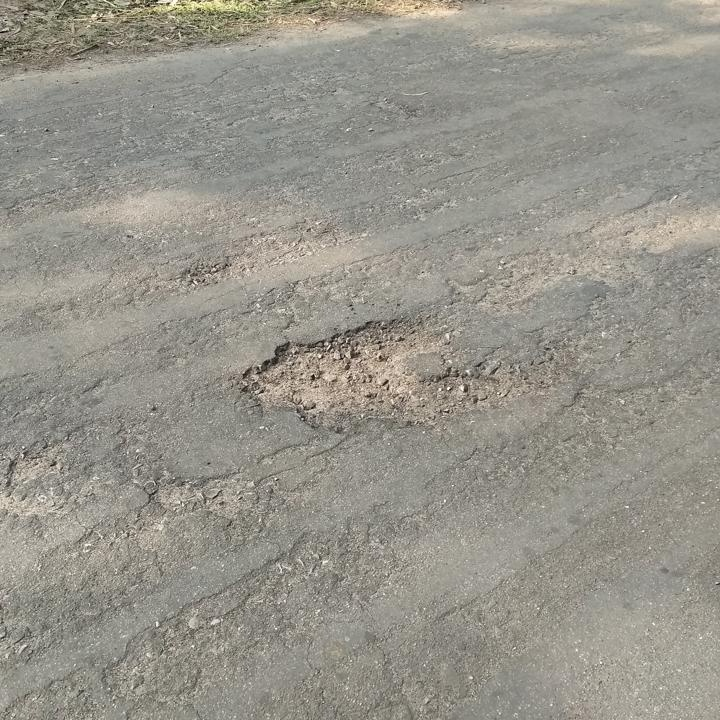pothole: (240, 309, 518, 434)
